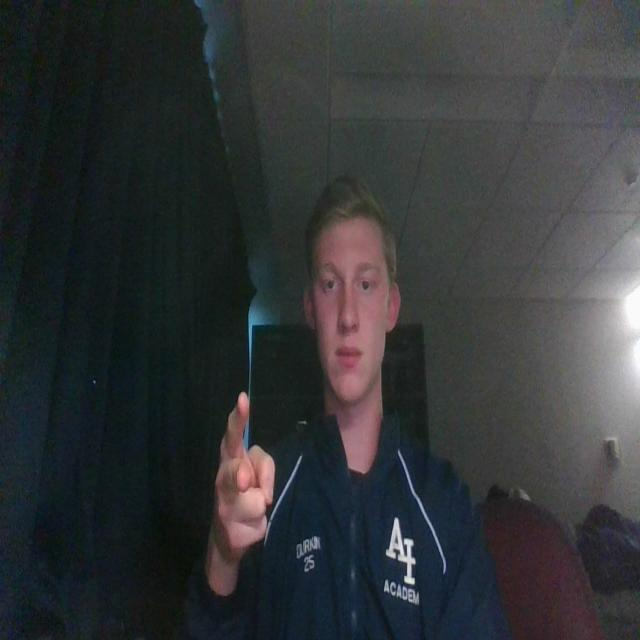scissors: (208, 386, 279, 567)
